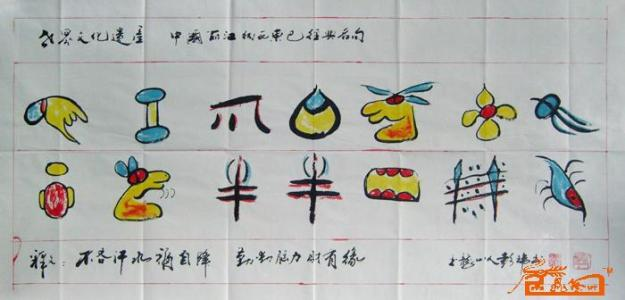naxi: (36, 157, 595, 223), (20, 86, 604, 148)
